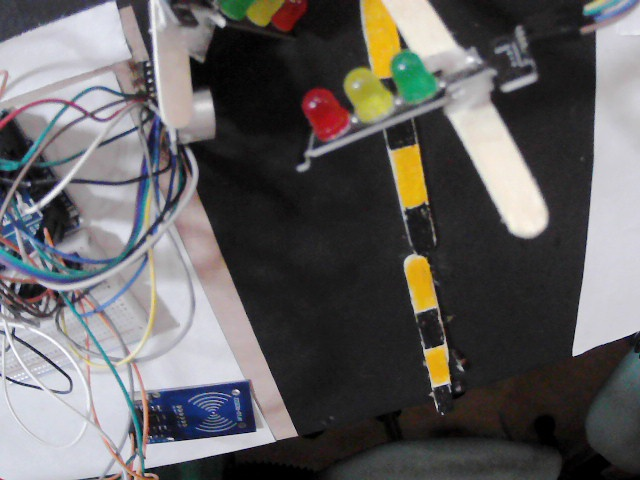black_strip: (404, 201, 441, 255), (412, 300, 451, 345), (432, 384, 457, 417)
mixed_lane: (382, 114, 454, 414), (348, 2, 396, 72)
traffic_light: (291, 42, 471, 159), (181, 0, 306, 35)
uno_breadboard: (0, 225, 159, 387), (0, 105, 88, 302), (124, 375, 256, 453), (171, 84, 222, 147)
yellow_strip: (352, 0, 408, 75), (384, 143, 432, 207), (401, 254, 442, 309), (415, 339, 457, 389)
